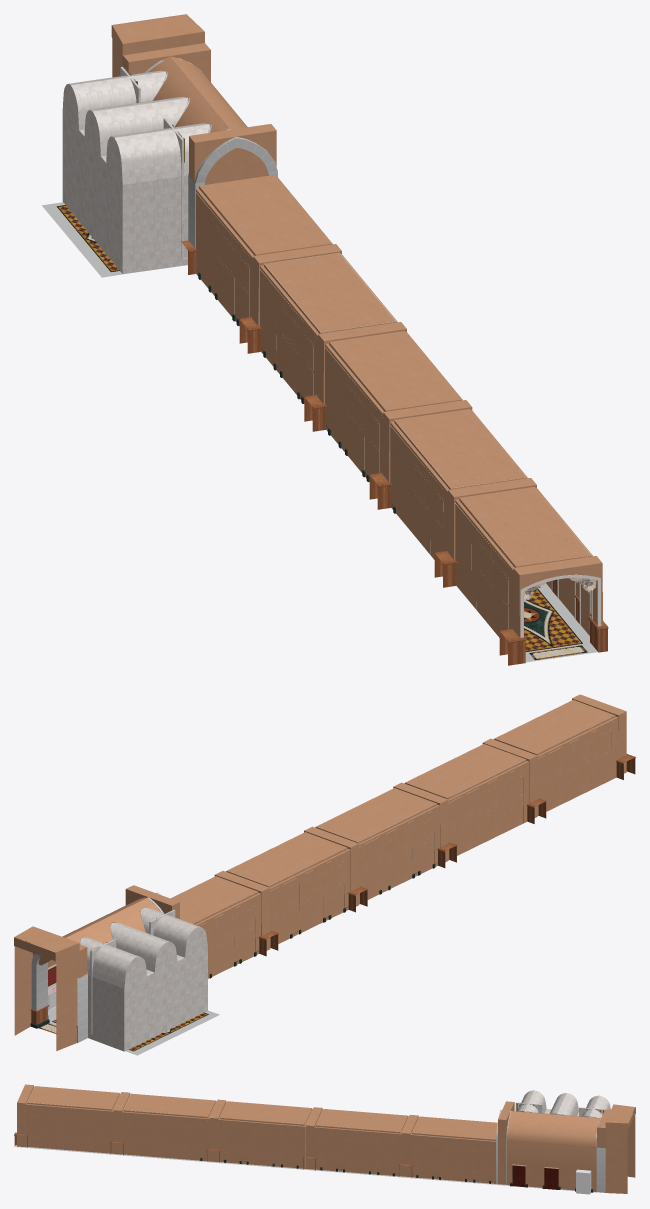
The model's file is EastTower.fbx.
3 views of the same model, one above another, from view 1: azimuth 30°, elevation 25°; view 2: azimuth 150°, elevation 25°; view 3: azimuth 270°, elevation 25° (orthographic). The views are drawn at different scales.
Visible parts, largest first — view 1: EastTower_Wall, EastTower_Floor; view 2: EastTower_Wall, EastTower_Floor; view 3: EastTower_Wall, EastTower_Floor, Rolex, EastTower_Skirting.
Boxes of the visible parts, x1,y1,x2,y2 form: EastTower_Wall: (62,14,608,665); EastTower_Floor: (42,202,597,662); EastTower_Wall: (14,694,635,1051); EastTower_Floor: (38,795,579,1055); EastTower_Wall: (14,1084,635,1193); EastTower_Floor: (15,1145,595,1192); Rolex: (576,1169,591,1194); EastTower_Skirting: (200,1158,594,1192).
Bounding box in the file's own units: 1674 × 794 × 6344.
